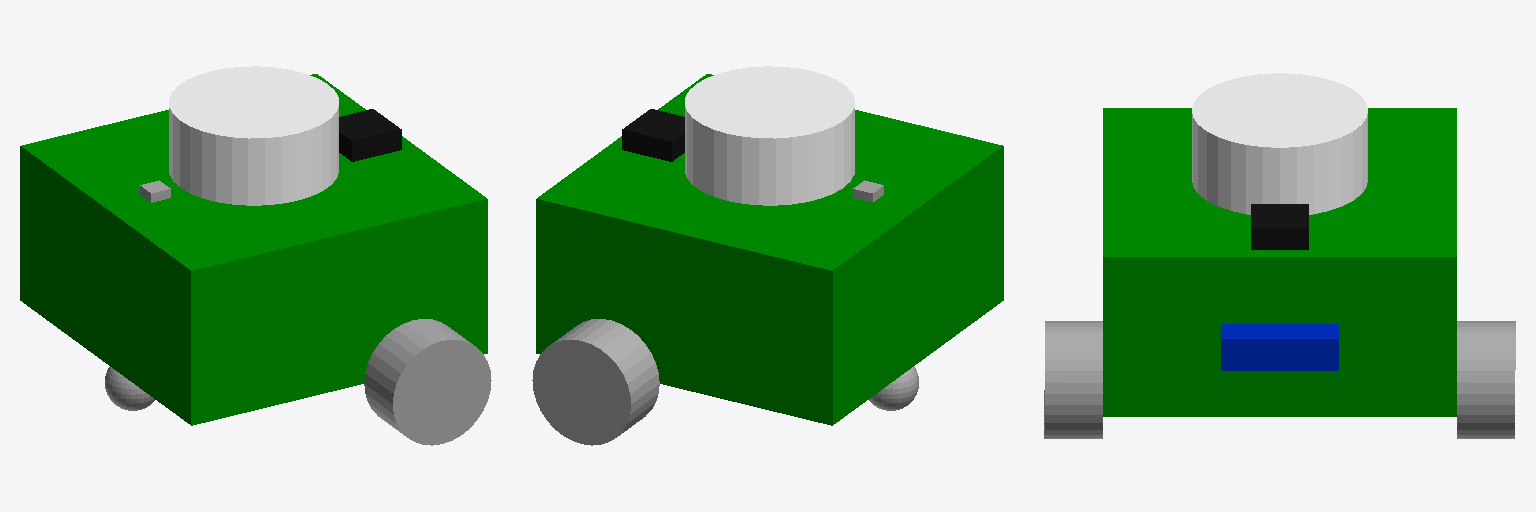
The robot description file, URDF, robot "amr":
<?xml version="1.0"?>
<robot name="amr">
    <!-- Materials remain the same -->
    <material name="grey">
        <color rgba="0.7 0.7 0.7 1" />
    </material>
    
    <material name="green">
        <color rgba="0 0.6 0 1" />
    </material>

    <material name="white">
        <color rgba="1 1 1 1" />
    </material>

    <material name="black">
        <color rgba="0.1 0.1 0.1 1" />
    </material>

    <material name="blue">
        <color rgba="0 0.2 0.8 1" />
    </material>

    
    <link name="base_footprint" />

    <!-- Base Link with Proper Inertial Properties -->
    <link name="base_link">
        <visual>
            <geometry>
                <box size="0.3 0.3 0.15" />
            </geometry>
            <origin xyz="0 0 0" rpy="0 0 0" />
            <material name="green" />
        </visual>

        <collision>
            <geometry>
                <box size="0.3 0.3 0.15" />
            </geometry>
            <origin xyz="0 0 0" rpy="0 0 0" />
        </collision>

        <inertial>
            <origin xyz="0 0 0" rpy="0 0 0" />
            <mass value="2.0" />
            <!-- Box inertia: I = (1/12) * m * (h^2 + d^2) -->
            <inertia
                ixx="0.01875"
                iyy="0.01875"
                izz="0.03"
                ixy="0"
                ixz="0"
                iyz="0"/>
        </inertial>
    </link>

    <!-- 3D Lidar Link with Proper Inertial Properties -->
    <link name="lidar_3d">
        <visual>
            <geometry>
                <cylinder radius="0.075" length="0.065" />
            </geometry>
            <origin xyz="0 0 0" rpy="0 0 0" />
            <material name="white" />
        </visual>

        <collision>
            <geometry>
                <cylinder radius="0.075" length="0.065" />
            </geometry>
            <origin xyz="0 0 0" rpy="0 0 0" />
        </collision>

        <inertial>
            <origin xyz="0 0 0" rpy="0 0 0" />
            <mass value="0.2" />
            <inertia 
                ixx="0.0003517"
                iyy="0.0003517"
                izz="0.0005625"
                ixy="0"
                ixz="0"
                iyz="0"/>
        </inertial>
    </link>

    <!-- Depth Camera Link -->
    <link name="camera_link">
        <visual>
            <geometry>
                <box size="0.03 0.1 0.03" />
            </geometry>
            <origin xyz="0 0 0" rpy="0 0 0" />
            <material name="blue" />
        </visual>

        <collision>
            <geometry>
                <box size="0.03 0.1 0.03" />
            </geometry>
            <origin xyz="0 0 0" rpy="0 0 0" />
        </collision>

        <inertial>
            <origin xyz="0 0 0" rpy="0 0 0" />
            <mass value="0.05" />
            <inertia 
                ixx="0.00004542"
                iyy="0.0000075"
                izz="0.00004542"
                ixy="0"
                ixz="0"
                iyz="0"/>
        </inertial>
    </link>

    <!-- Depth Camera Optical Frame -->
    <link name="camera_depth_frame" />

    <!-- IMU Link -->
    <link name="imu_link">
        <visual>
            <geometry>
                <box size="0.02 0.02 0.01" />
            </geometry>
            <origin xyz="0 0 0" rpy="0 0 0" />
            <material name="grey" />
        </visual>

        <!-- <collision>
            <geometry>
                <box size="0.02 0.02 0.01" />
            </geometry>
            <origin xyz="0 0 0" rpy="0 0 0" />
        </collision> -->

        <inertial>
            <origin xyz="0 0 0" rpy="0 0 0" />
            <mass value="0.01" />
            <inertia 
                ixx="4.167e-7"
                iyy="4.167e-7"
                izz="6.667e-7"
                ixy="0"
                ixz="0"
                iyz="0"/>
        </inertial>
    </link>

    <!-- GPS/NavSat Link -->
    <link name="navsat_link">
        <visual>
            <geometry>
                <box size="0.05 0.05 0.02" />
            </geometry>
            <origin xyz="0 0 0" rpy="0 0 0" />
            <material name="black" />
        </visual>

        <collision>
            <geometry>
                <box size="0.05 0.05 0.02" />
            </geometry>
            <origin xyz="0 0 0" rpy="0 0 0" />
        </collision>

        <inertial>
            <origin xyz="0 0 0" rpy="0 0 0" />
            <mass value="0.02" />
            <inertia 
                ixx="0.000004833"
                iyy="0.000004833"
                izz="0.000008333"
                ixy="0"
                ixz="0"
                iyz="0"/>
        </inertial>
    </link>

    <!-- Left Wheel with Proper Inertial Properties -->
    <link name="front_left_wheel">
        <visual>
            <geometry>
                <cylinder radius="0.05" length="0.05" />
            </geometry>
            <origin xyz="0 0 0" rpy="1.57 0 0" />
            <material name="grey" />
        </visual>

        <collision>
            <geometry>
                <cylinder radius="0.05" length="0.05" />
            </geometry>
            <origin xyz="0 0 0" rpy="1.57 0 0" />
            <surface>
                <!-- This friction pamareter don't contain reliable data!! -->
                <friction>
                    <ode>
                        <mu>100000.0</mu>
                        <mu2>100000.0</mu2>
                        <fdir1>0 0 0</fdir1>
                        <slip1>0.0</slip1>
                        <slip2>0.0</slip2>
                    </ode>
                </friction>
                <contact>
                    <ode>
                        <soft_cfm>0</soft_cfm>
                        <soft_erp>0.2</soft_erp>
                        <kp>1e+5</kp>
                        <kd>1</kd>
                        <max_vel>0.01</max_vel>
                        <min_depth>0.001</min_depth>
                    </ode>
                </contact>
            </surface>
        </collision>

        <inertial>
            <origin xyz="0 0 0" rpy="1.57 0 0" />
            <mass value="0.2" />
            <inertia
                ixx="0.00016667"
                iyy="0.00016667"
                izz="0.00025"
                ixy="0"
                ixz="0"
                iyz="0"/>
        </inertial>
    </link>

    <!-- Right Wheel with Proper Inertial Properties -->
    <link name="front_right_wheel">
        <visual>
            <geometry>
                <cylinder radius="0.05" length="0.05" />
            </geometry>
            <origin xyz="0 0 0" rpy="1.57 0 0" />
            <material name="grey" />
        </visual>

        <collision>
            <geometry>
                <cylinder radius="0.05" length="0.05" />
            </geometry>
            <origin xyz="0 0 0" rpy="1.57 0 0" />
            <surface>
                <!-- This friction pamareter don't contain reliable data!! -->
                <friction>
                    <ode>
                        <mu>100000.0</mu>
                        <mu2>100000.0</mu2>
                        <fdir1>0 0 0</fdir1>
                        <slip1>0.0</slip1>
                        <slip2>0.0</slip2>
                    </ode>
                </friction>
                <contact>
                    <ode>
                        <soft_cfm>0</soft_cfm>
                        <soft_erp>0.2</soft_erp>
                        <kp>1e+5</kp>
                        <kd>1</kd>
                        <max_vel>0.01</max_vel>
                        <min_depth>0.001</min_depth>
                    </ode>
                </contact>
            </surface>
        </collision>

        <inertial>
            <origin xyz="0 0 0" rpy="1.57 0 0" />
            <mass value="0.2" />
            <inertia
                ixx="0.00016667"
                iyy="0.00016667"
                izz="0.00025"
                ixy="0"
                ixz="0"
                iyz="0"/>
        </inertial>
    </link>

        <!-- Caster Wheel -->
    <link name="caster_wheel">
        <visual>
            <geometry>
                <sphere radius="0.025"/>
            </geometry>
            <origin xyz="0 0 0" rpy="0 0 0" />
            <material name="grey" />
        </visual>

        <collision>
            <geometry>
                <sphere radius="0.025"/>
            </geometry>
            <origin xyz="0 0 0" rpy="0 0 0" />
            <surface>
                <contact>
                    <ode>
                    <soft_cfm>0</soft_cfm>
                    <soft_erp>0.2</soft_erp>
                    <kp>1e+5</kp>
                    <kd>1</kd>
                    <max_vel>0.01</max_vel>
                    <min_depth>0.001</min_depth>
                    </ode>
                </contact>
            </surface>
        </collision>

        <inertial>
            <origin xyz="0 0 0" rpy="0 0 0" />
            <mass value="0.05" />
            <!-- Cylinder about Y-axis (rotated): r=0.1, h=0.05 -->
            <inertia
                ixx="0.000020833"
                iyy="0.000020833"
                izz="0.000020833"
                ixy="0"
                ixz="0"
                iyz="0"/>
        </inertial>
    </link>

    <!-- Joints remain the same -->
    <joint name="base_joint" type="fixed">
        <parent link="base_footprint" />
        <child link="base_link" />
        <origin xyz="0 0 0" rpy="0 0 0" />
    </joint>

    <joint name="base_lidar_3d_joint" type="fixed">
        <parent link="base_link" />
        <child link="lidar_3d" />
        <origin xyz="0 0 0.11" rpy="0 0 0" />
    </joint>

    <joint name="camera_joint" type="fixed">
        <parent link="base_link" />
        <child link="camera_link" />
        <origin xyz="0.17 0 0" rpy="0 0 0" />
    </joint>

    <joint name="camera_depth_joint" type="fixed">
        <parent link="camera_link" />
        <child link="camera_depth_frame" />
        <origin xyz="0 0 0" rpy="0 0 0" />
    </joint>

    <joint name="imu_joint" type="fixed">
        <parent link="base_link" />
        <child link="imu_link" />
        <origin xyz="-0.1 0 0.079" rpy="0 0 0" />
    </joint>

    <joint name="navsat_joint" type="fixed">
        <parent link="base_link" />
        <child link="navsat_link" />
        <origin xyz="0.11 0 0.085" rpy="0 0 0" />
    </joint>

    <joint name="base_front_left_wheel_joint" type="continuous">
        <parent link="base_link" />
        <child link="front_left_wheel" />
        <origin xyz="0.075 0.175 -0.075" rpy="0 0 0" />
        <axis xyz="0 1 0" />
        <!-- <dynamics damping="0.1" friction="0.0"/> -->
    </joint>

    <joint name="base_front_right_wheel_joint" type="continuous">
        <parent link="base_link" />
        <child link="front_right_wheel" />
        <origin xyz="0.075 -0.175 -0.075" rpy="0 0 0" />
        <axis xyz="0 1 0" />
        <!-- <dynamics damping="0.1" friction="0.0"/> -->
    </joint>

    <joint name="caster_wheel_joint" type="fixed">
        <parent link="base_link" />
        <child link="caster_wheel" />
        <origin xyz="-0.1225 0 -0.1" rpy="0 0 0" />
    </joint>

    <!-- Gazebo materials -->
    <gazebo reference="base_link">
        <material>Gazebo/Green</material>
    </gazebo>

    <gazebo reference="lidar_3d">
        <material>Gazebo/White</material>
    </gazebo>

    <gazebo reference="camera_link">
        <material>Gazebo/Black</material>
    </gazebo>

    <gazebo reference="imu_link">
        <material>Gazebo/Grey</material>
    </gazebo>

    <gazebo reference="navsat_link">
        <material>Gazebo/Black</material>
    </gazebo>

    <gazebo reference="front_left_wheel">
        <material>Gazebo/Grey</material>
        <!-- <mu1>1.0</mu1>
        <mu2>1.0</mu2>
        <kp>1000000.0</kp>
        <kd>100.0</kd>
        <minDepth>0.001</minDepth>
        <maxVel>1.0</maxVel> -->
    </gazebo>

    <gazebo reference="front_right_wheel">
        <material>Gazebo/Grey</material>
        <!-- <mu1>1.0</mu1>
        <mu2>1.0</mu2>
        <kp>1000000.0</kp>
        <kd>100.0</kd>
        <minDepth>0.001</minDepth>
        <maxVel>1.0</maxVel> -->
    </gazebo>

    <!-- Sensors remain the same -->
    <gazebo reference="lidar_3d">
        <sensor name="lidar_3d_sensor" type="gpu_lidar">
            <topic>/lidar_3d</topic>
            <update_rate>15</update_rate>
            <gz_frame_id>lidar_3d</gz_frame_id>
            <lidar>
                <scan>
                    <horizontal>
                        <!-- <samples>720</samples> -->
                        <samples>200</samples>
                        <resolution>1</resolution>
                        <min_angle>-3.14</min_angle>
                        <max_angle>3.14</max_angle>
                    </horizontal>
                    <vertical>
                        <!-- <samples>64</samples> -->
                        <samples>32</samples>
                        <resolution>1</resolution>
                        <min_angle>-0.26</min_angle>
                        <max_angle>0.26</max_angle>
                    </vertical>
                </scan>
                <range>
                    <min>0.15</min>
                    <max>10.0</max>
                </range>
            </lidar>
            <always_on>true</always_on>
        </sensor>
    </gazebo>

    <gazebo reference="camera_link">
        <sensor name="depth_camera" type="depth_camera">
            <update_rate>15</update_rate>
            <topic>/camera</topic>
            <gz_frame_id>camera_link</gz_frame_id>
            <camera>
                <horizontal_fov>1.5708</horizontal_fov>
                <image>
                    <width>640</width>
                    <height>480</height>
                    <format>R8G8B8</format>
                </image>
                <clip>
                    <near>0.1</near>
                    <far>10.0</far>
                </clip>
            </camera>
            <always_on>1</always_on>
        </sensor>
    </gazebo>

    <gazebo reference="imu_link">
        <sensor name="imu_sensor" type="imu">
            <update_rate>200</update_rate>
            <topic>/imu</topic>
            <gz_frame_id>imu_link</gz_frame_id>
            <always_on>1</always_on>
            <imu>
                <orientation_reference_frame>
                    <localization>ENU</localization>
                </orientation_reference_frame>
                <angular_velocity>
                    <x><noise type="gaussian"><mean>0.0</mean><stddev>2e-4</stddev></noise></x>
                    <y><noise type="gaussian"><mean>0.0</mean><stddev>2e-4</stddev></noise></y>
                    <z><noise type="gaussian"><mean>0.0</mean><stddev>2e-4</stddev></noise></z>
                </angular_velocity>
                <linear_acceleration>
                    <x><noise type="gaussian"><mean>0.0</mean><stddev>1.7e-2</stddev></noise></x>
                    <y><noise type="gaussian"><mean>0.0</mean><stddev>1.7e-2</stddev></noise></y>
                    <z><noise type="gaussian"><mean>0.0</mean><stddev>1.7e-2</stddev></noise></z>
                </linear_acceleration>
            </imu>
        </sensor>
    </gazebo>

    <gazebo reference="navsat_link">
        <sensor name="navsat" type="navsat">
            <always_on>1</always_on>
            <update_rate>10</update_rate>
            <topic>/navsat</topic>
            <gz_frame_id>navsat_link</gz_frame_id>
        </sensor>
    </gazebo>

    <!-- Differential Drive Plugin -->
    <gazebo>
        <plugin filename="gz-sim-diff-drive-system" name="gz::sim::systems::DiffDrive">
            <left_joint>base_front_left_wheel_joint</left_joint>
            <right_joint>base_front_right_wheel_joint</right_joint>

            <wheel_separation>0.35</wheel_separation>
            <wheel_radius>0.05</wheel_radius>

            <max_linear_acceleration>1.0</max_linear_acceleration>

            <topic>/cmd_vel</topic>

            <odom_topic>/odom</odom_topic>
            <frame_id>odom</frame_id>
            <child_frame_id>base_footprint</child_frame_id>
            <odom_publish_frequency>30</odom_publish_frequency>

            <!-- <tf_topic>/tf</tf_topic> -->
        </plugin>
    </gazebo>
</robot>

--- Render facts (derived) ---
The picture shows the robot from 3 angles, left to right: view 1: azimuth 30°, elevation 25°; view 2: azimuth 150°, elevation 25°; view 3: azimuth 270°, elevation 25°; orthographic projection.
Model amr with 10 links and 9 joints (2 continuous, 7 fixed), rooted at base_footprint, posed every joint at zero.
Links seen in each view (by area): view 1: base_link, lidar_3d, front_right_wheel, navsat_link, caster_wheel; view 2: base_link, lidar_3d, front_left_wheel, navsat_link, caster_wheel; view 3: base_link, lidar_3d, front_left_wheel, front_right_wheel, camera_link, navsat_link.
Boxes of the visible links, x1,y1,x2,y2 form: base_link: (20, 74, 487, 425); lidar_3d: (169, 66, 338, 205); front_right_wheel: (364, 319, 491, 445); navsat_link: (339, 109, 401, 161); caster_wheel: (105, 367, 154, 410); base_link: (536, 74, 1003, 425); lidar_3d: (685, 66, 854, 205); front_left_wheel: (532, 319, 659, 445); navsat_link: (622, 109, 684, 161); caster_wheel: (869, 367, 918, 410); base_link: (1103, 108, 1456, 416); lidar_3d: (1192, 73, 1367, 214); front_left_wheel: (1457, 321, 1515, 438); front_right_wheel: (1044, 321, 1102, 438); camera_link: (1221, 324, 1338, 370); navsat_link: (1251, 204, 1308, 249).
Size in the robot's own frame: 0.335 by 0.4001 by 0.2675 metres.
Geometry: primitives only (box / cylinder / sphere), no mesh files.
